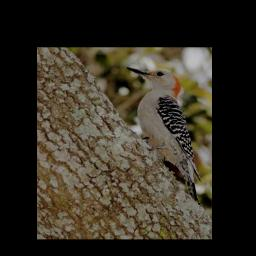Woodpecker: (123, 60, 207, 209)
